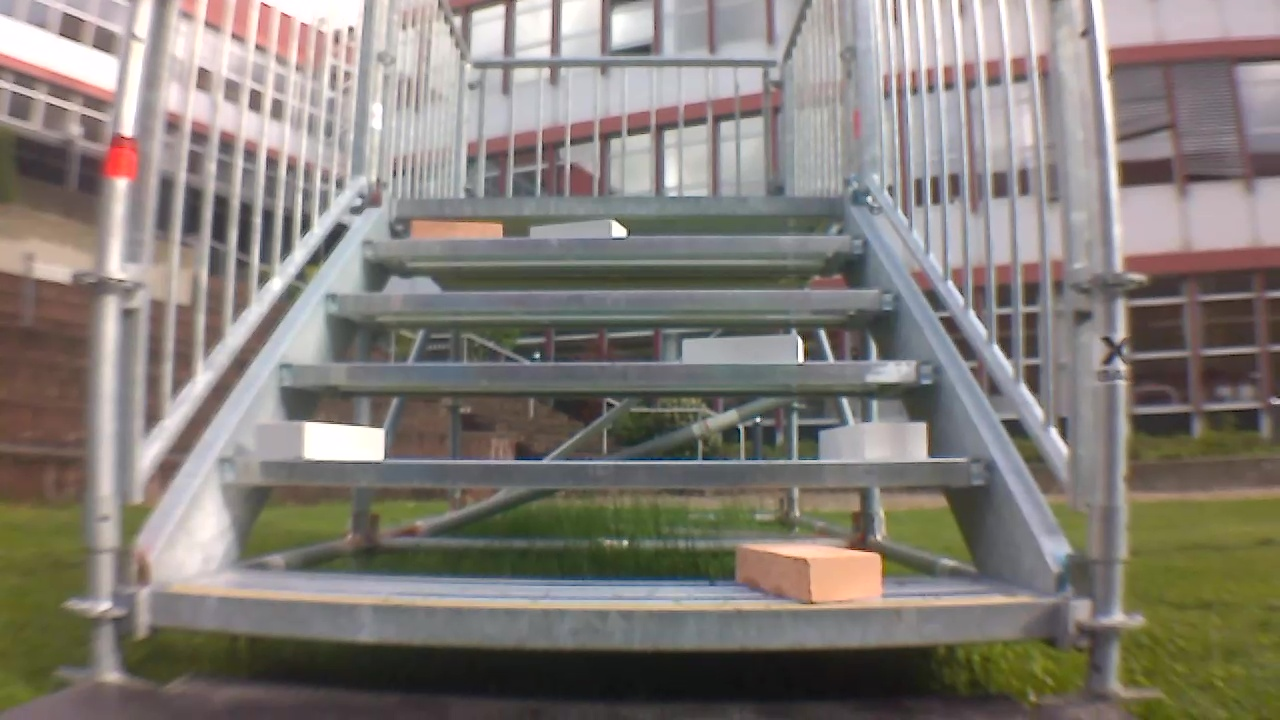brick: (736, 543, 880, 604), (256, 421, 383, 460), (820, 421, 927, 459), (683, 335, 803, 364), (530, 218, 628, 238), (412, 222, 500, 236)
edge: (153, 590, 1058, 649), (222, 456, 992, 484), (283, 362, 942, 386), (327, 289, 895, 313), (366, 234, 869, 257), (399, 194, 846, 216)
stairs: (85, 3, 1145, 699)
steps: (139, 186, 1066, 660)
